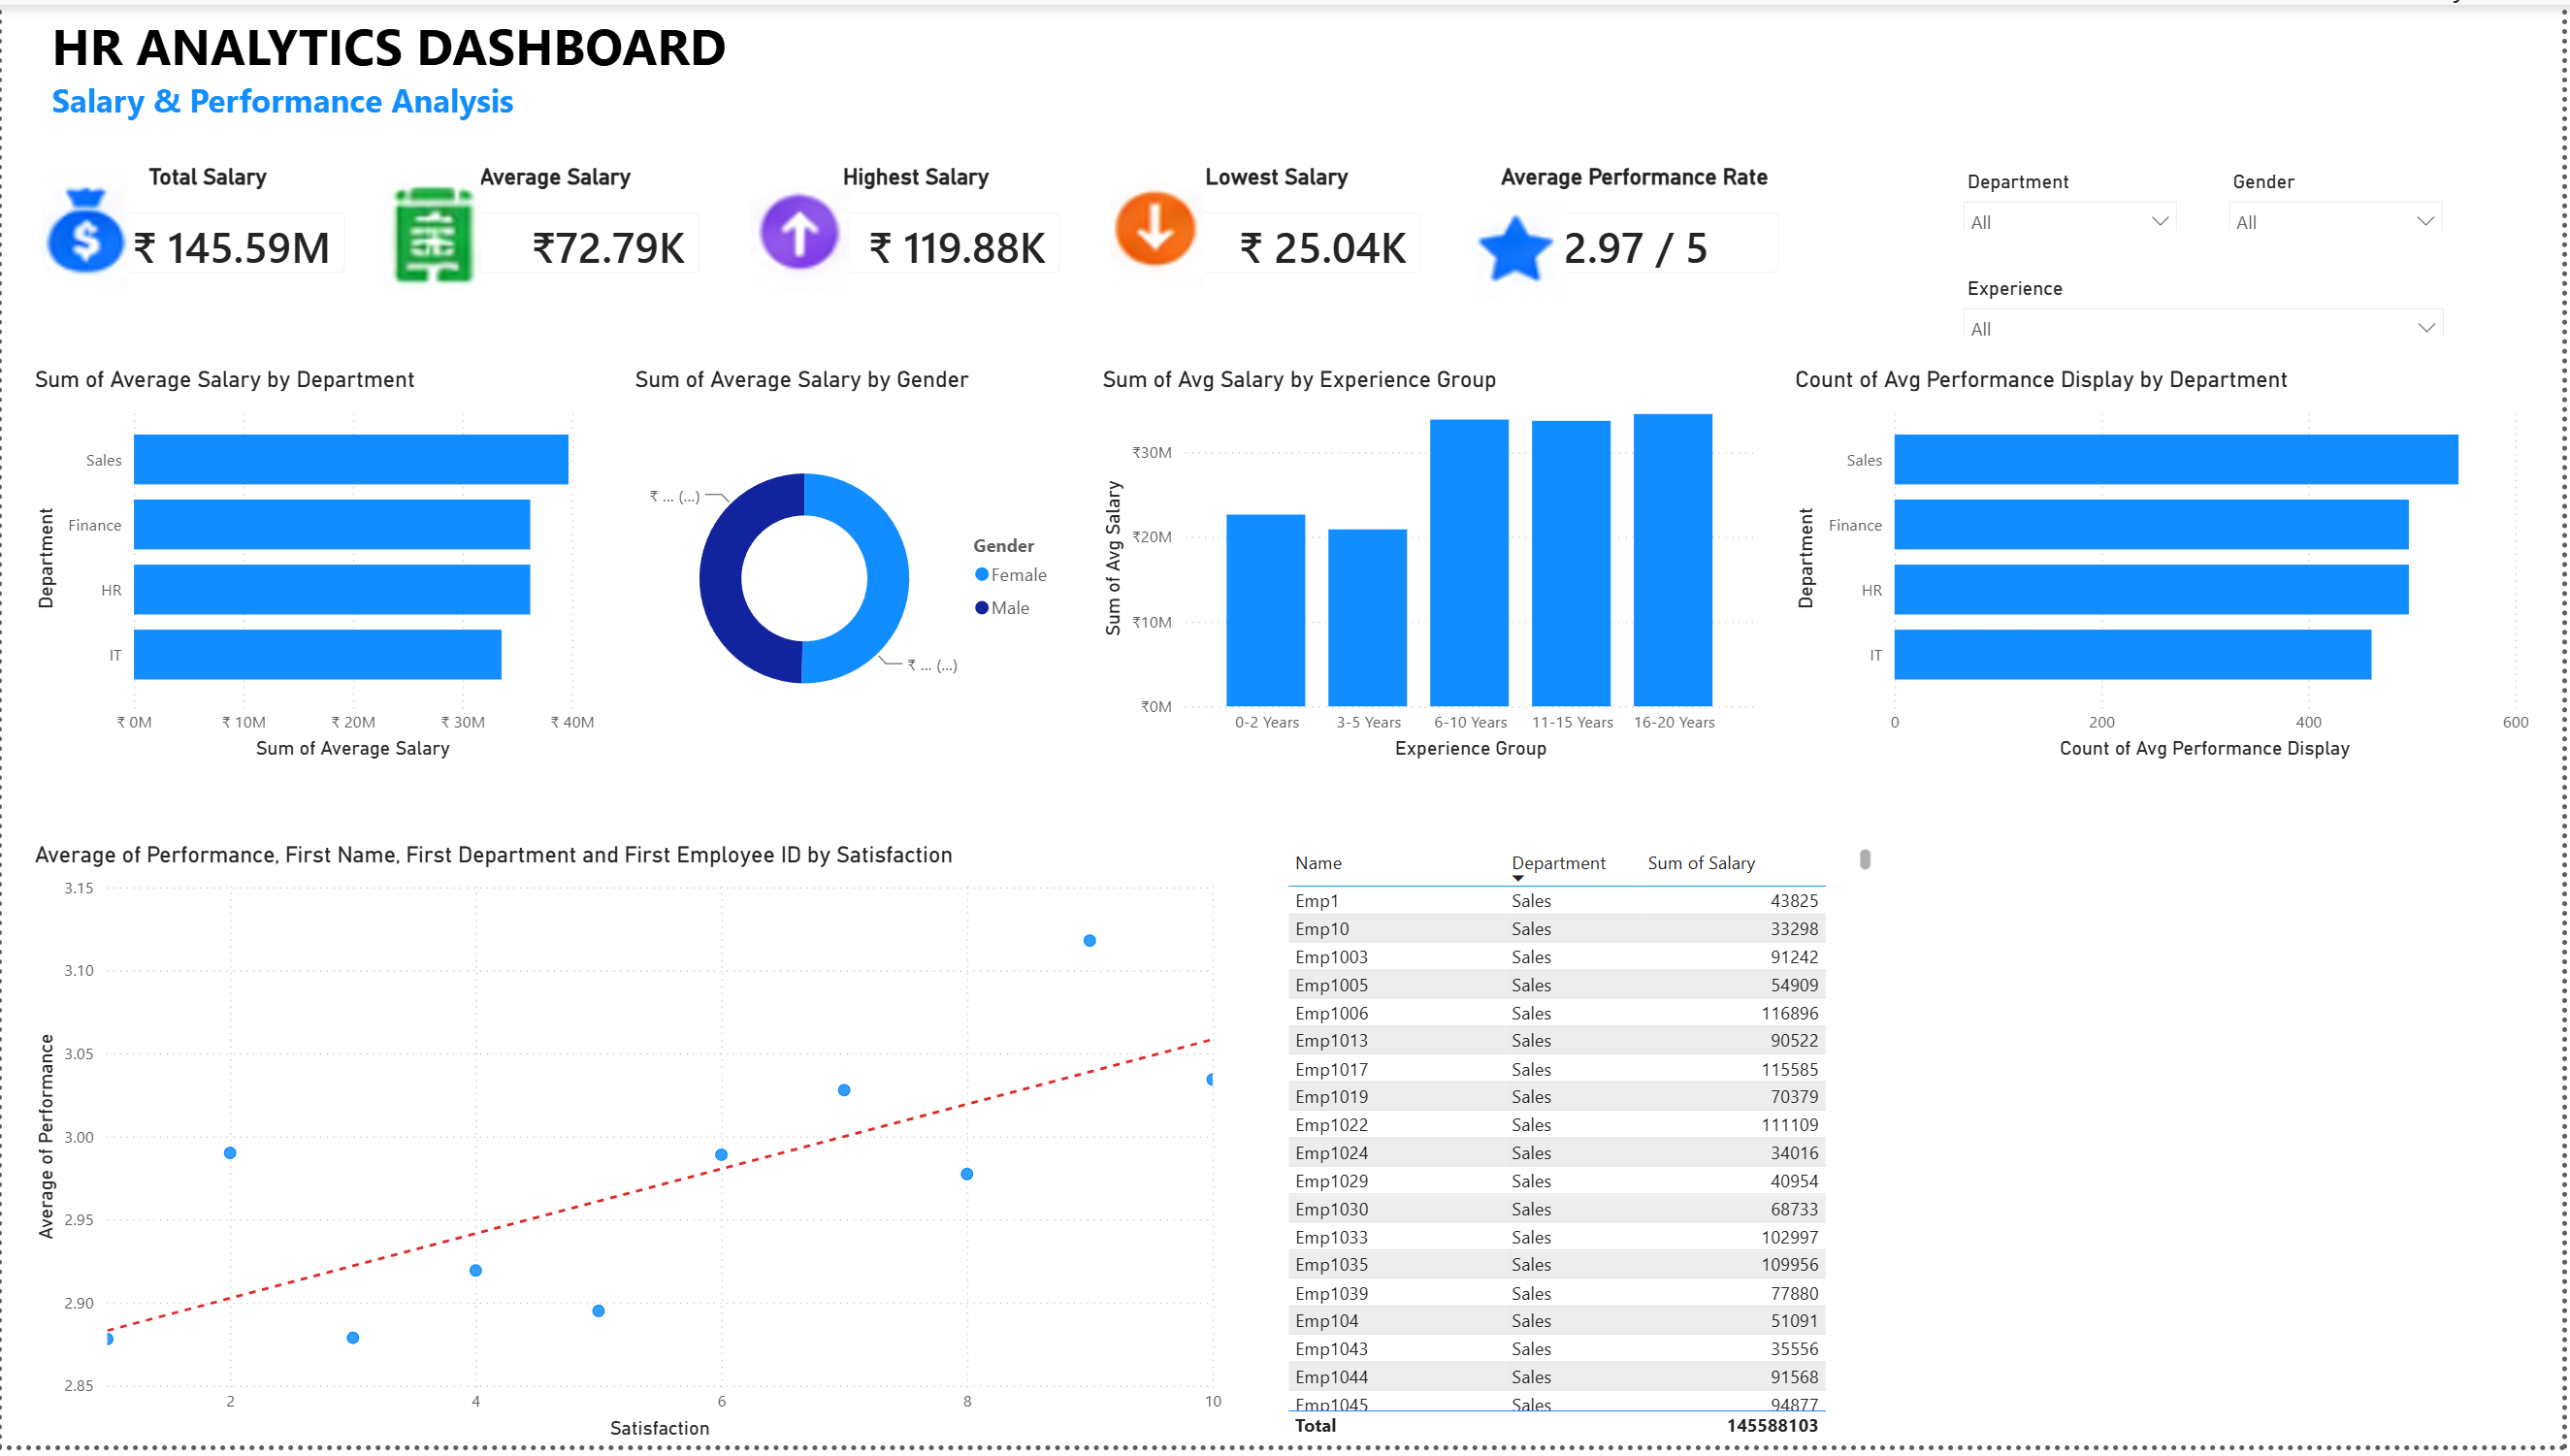

Layout of this report page (visuals, bound fields, positions):
{"tool":"powerbi","page":{"name":"Salary & Performance","canvas":[1920,1080],"ordinal":2},"visuals":[{"type":"cardVisual","title":"Total Salary","fields":{"Data":["Avg(Sheet (3).Total Salary)"]},"box":[20,120,250,100],"z":0},{"type":"cardVisual","title":"Average Salary","fields":{"Data":["Avg(Sheet (3).Avg Salary)"]},"box":[290,120,250,100],"z":1},{"type":"cardVisual","title":"Lowest Salary","fields":{"Data":["Avg(Sheet (3).Lowest Salary)"]},"box":[830,120,250,100],"z":2},{"type":"cardVisual","title":"Highest Salary","fields":{"Data":["Avg(Sheet (3).Highest Salary)"]},"box":[560,120,250,100],"z":3},{"type":"cardVisual","title":"Average Performance  Rate","fields":{"Data":["Min(Sheet (3).Avg Performance Display)"]},"box":[1100,120,250,100],"z":4},{"type":"slicer","fields":{"Values":["Sheet (3).Department"]},"box":[1460,120,180,50],"z":5},{"type":"slicer","fields":{"Values":["Sheet (3).Gender"]},"box":[1660,120,180,50],"z":6},{"type":"slicer","fields":{"Values":["Sheet (3).Experience"]},"box":[1460,200,380,50],"z":7},{"type":"clusteredBarChart","fields":{"Category":["Sheet (3).Department"],"Y":["Sum(Sheet (3).Average Salary)"]},"box":[20,270,430,300],"z":8},{"type":"donutChart","fields":{"Y":["Sum(Sheet (3).Average Salary)"],"Category":["Sheet (3).Gender"]},"box":[470,270,330,300],"z":9},{"type":"clusteredColumnChart","fields":{"Category":["Sheet (3).Experience Group"],"Y":["Sum(Sheet (3).Avg Salary)"]},"box":[820,270,500,300],"z":10},{"type":"clusteredBarChart","fields":{"Category":["Sheet (3).Department"],"Y":["CountNonNull(Sheet (3).Avg Performance Display)"]},"box":[1340,270,560,300],"z":11},{"type":"scatterChart","fields":{"Y":["Sheet (3).Performance"],"X":["Sheet (3).Satisfaction"]},"box":[19.5,627.6,900.3,452.3],"z":12},{"type":"tableEx","fields":{"Values":["Sheet (3).Name","Sheet (3).Department","Sum(Sheet (3).Salary)"]},"box":[958.7,627.6,448,452.3],"z":13},{"type":"textbox","box":[32.5,0,558.4,99.6],"z":14},{"type":"image","box":[31,121,65,97.4],"z":15},{"type":"image","box":[560.5,125.5,75.7,99.6],"z":16},{"type":"image","box":[290,125.5,69.3,93.1],"z":17},{"type":"image","box":[1099.4,145,76,75.7],"z":18},{"type":"image","box":[831.1,125.5,70,93.1],"z":19}]}

Visuals, with their boxes in screenshot pixels (x1, y1, x2, y2), scaled from the page's 1920x1080 canvas onto the 2570x1456 screenshot:
"Total Salary" cardVisual: Rect(27, 162, 362, 297)
"Average Salary" cardVisual: Rect(388, 162, 723, 297)
"Lowest Salary" cardVisual: Rect(1111, 162, 1446, 297)
"Highest Salary" cardVisual: Rect(750, 162, 1085, 297)
"Average Performance  Rate" cardVisual: Rect(1473, 162, 1807, 297)
slicer - Sheet (3).Department: Rect(1954, 162, 2196, 229)
slicer - Sheet (3).Gender: Rect(2222, 162, 2463, 229)
slicer - Sheet (3).Experience: Rect(1954, 270, 2463, 337)
clusteredBarChart - Sheet (3).Department x Sum(Sheet (3).Average Salary): Rect(27, 364, 602, 768)
donutChart - Sum(Sheet (3).Average Salary) x Sheet (3).Gender: Rect(629, 364, 1071, 768)
clusteredColumnChart - Sheet (3).Experience Group x Sum(Sheet (3).Avg Salary): Rect(1097, 364, 1767, 768)
clusteredBarChart - Sheet (3).Department x CountNonNull(Sheet (3).Avg Performance Display): Rect(1794, 364, 2543, 768)
scatterChart - Sheet (3).Performance x Sheet (3).Satisfaction: Rect(26, 846, 1231, 1455)
tableEx - Sheet (3).Name x Sheet (3).Department: Rect(1284, 846, 1883, 1455)
textbox: Rect(44, 0, 791, 134)
image: Rect(42, 163, 128, 295)
image: Rect(750, 169, 852, 304)
image: Rect(388, 169, 481, 295)
image: Rect(1472, 196, 1574, 298)
image: Rect(1113, 169, 1206, 295)
